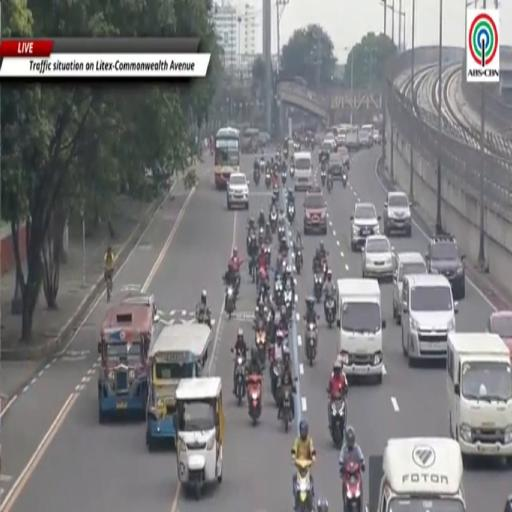bus: (215, 127, 241, 188)
car: (425, 234, 465, 300), (393, 252, 426, 325), (362, 235, 393, 281), (351, 202, 380, 251), (122, 287, 160, 322), (383, 191, 411, 236), (487, 311, 511, 358), (303, 187, 327, 234), (227, 173, 248, 210), (329, 151, 343, 179), (359, 124, 373, 148), (319, 141, 334, 163), (338, 147, 350, 169), (336, 131, 346, 148), (373, 128, 381, 143), (505, 494, 511, 511)
jeepney: (146, 324, 212, 451), (98, 304, 153, 423), (176, 377, 224, 499), (122, 290, 160, 326)
motorcycle: (294, 459, 314, 511), (343, 460, 363, 511), (329, 395, 346, 449), (246, 375, 261, 425), (279, 386, 293, 431), (235, 352, 245, 406), (305, 323, 317, 366), (270, 361, 282, 403), (256, 329, 266, 367), (225, 285, 235, 318), (284, 287, 294, 319), (325, 297, 335, 328), (196, 309, 211, 329), (313, 274, 323, 302), (274, 277, 283, 307), (249, 254, 257, 282), (257, 284, 267, 305), (295, 248, 303, 274), (270, 210, 277, 233), (287, 203, 295, 223), (257, 228, 265, 246), (278, 224, 285, 242), (327, 173, 333, 194), (265, 246, 271, 266), (254, 168, 260, 185), (259, 158, 266, 171), (265, 170, 270, 188), (273, 184, 278, 201), (321, 169, 326, 186), (282, 170, 287, 186), (342, 171, 347, 187), (294, 142, 300, 152), (321, 159, 326, 171), (290, 166, 294, 179), (283, 149, 288, 158)
truck: (447, 332, 511, 460), (368, 438, 466, 511), (337, 279, 386, 382), (345, 127, 360, 151)
